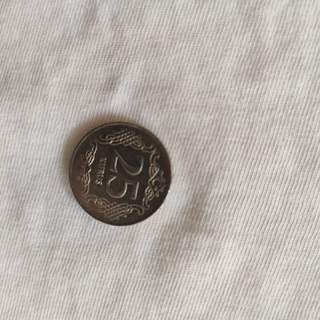25KURUS: (67, 120, 173, 227)
